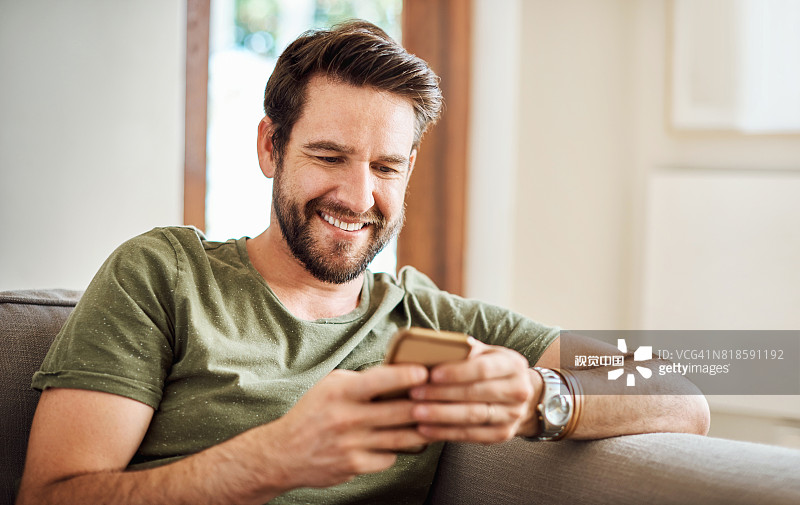reading: (271, 309, 545, 488)
